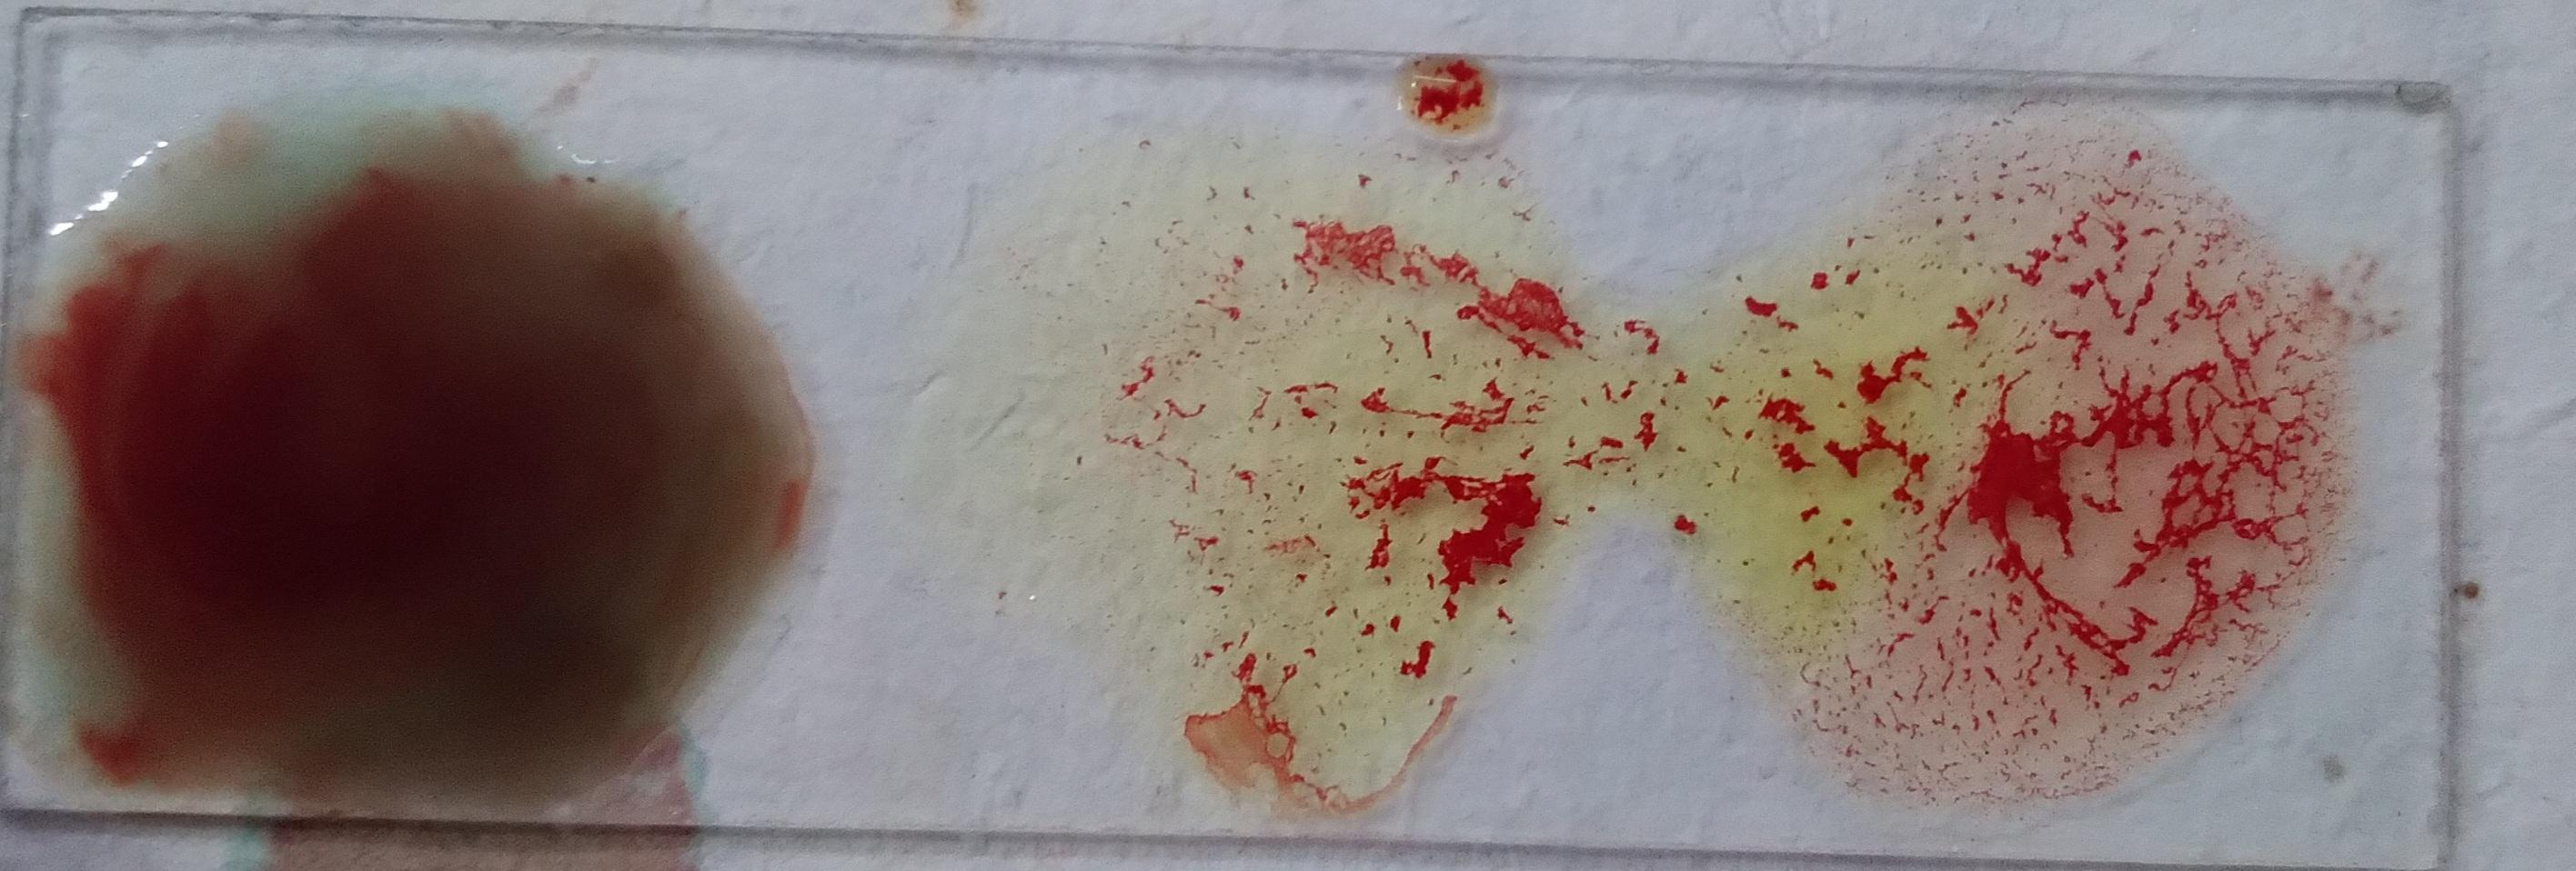B: (1147, 150, 1549, 805)
D: (1988, 150, 2313, 802)
